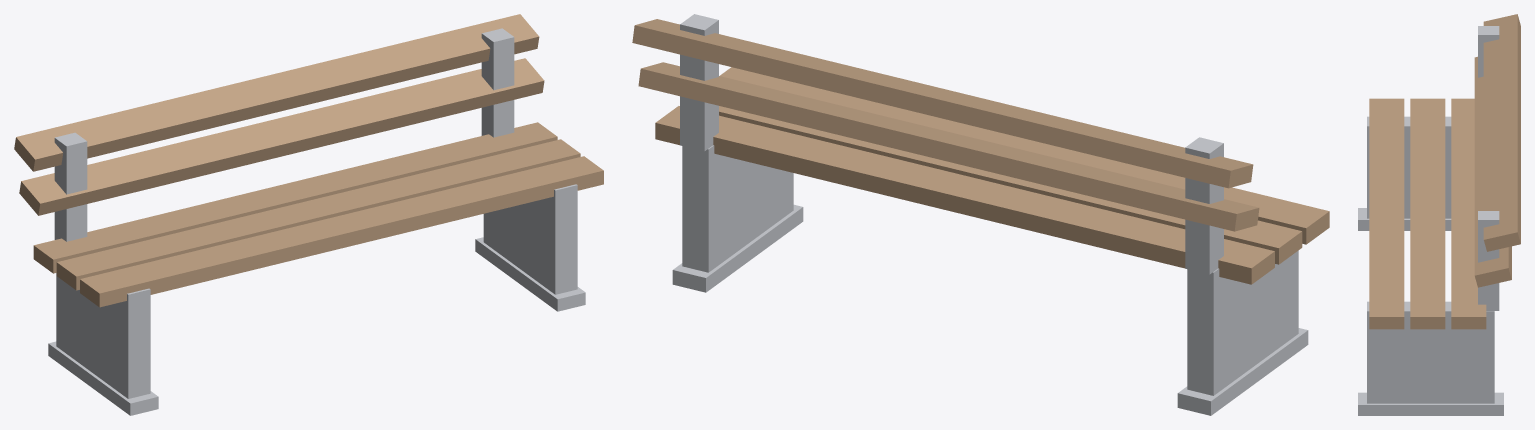
File: low-poly-character-figures-plaza-bench-4f5c08d1__36394.glb
The picture shows the model from 3 angles, left to right: view 1: azimuth 30°, elevation 25°; view 2: azimuth 150°, elevation 25°; view 3: azimuth 270°, elevation 25°; orthographic projection. The views are drawn at different scales.
Parts seen in each view (by area): view 1: plaza-bench; view 2: plaza-bench; view 3: plaza-bench.
Boxes of the visible parts, <box> form: plaza-bench: <box>14,14,603,415</box>; plaza-bench: <box>632,14,1329,415</box>; plaza-bench: <box>1358,14,1520,415</box>.
Size of the model in its own units: 1.7 by 0.706 by 0.5362.
